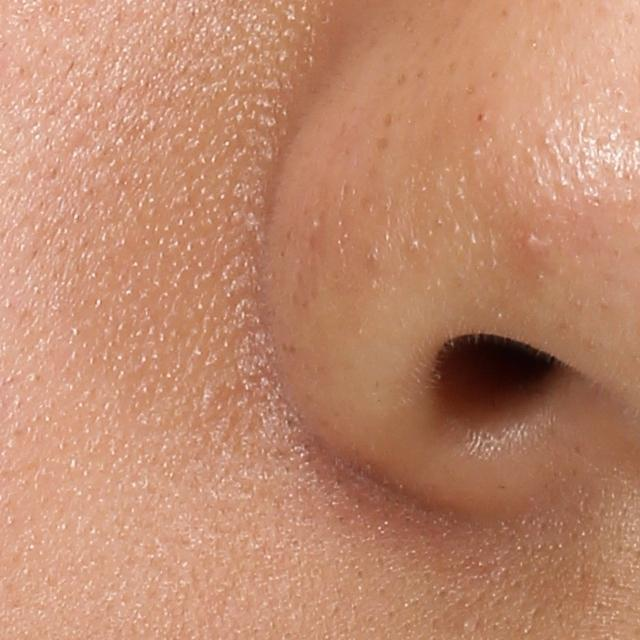comedo: (522, 232, 548, 256), (459, 615, 474, 634)
